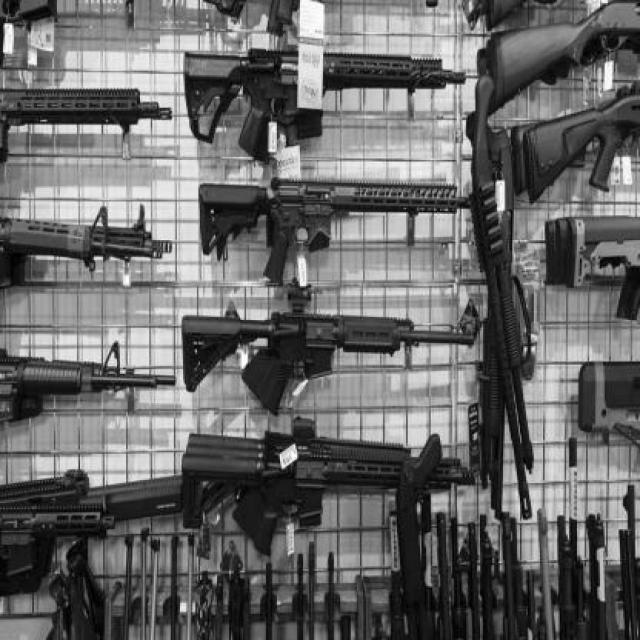weapon: (182, 279, 480, 416), (181, 419, 474, 535), (185, 46, 466, 166), (198, 177, 474, 288), (470, 74, 536, 520), (476, 4, 639, 117), (468, 124, 514, 519), (1, 340, 176, 427), (523, 82, 639, 204), (2, 87, 173, 164), (1, 205, 173, 281), (543, 216, 639, 322), (578, 363, 638, 446)
